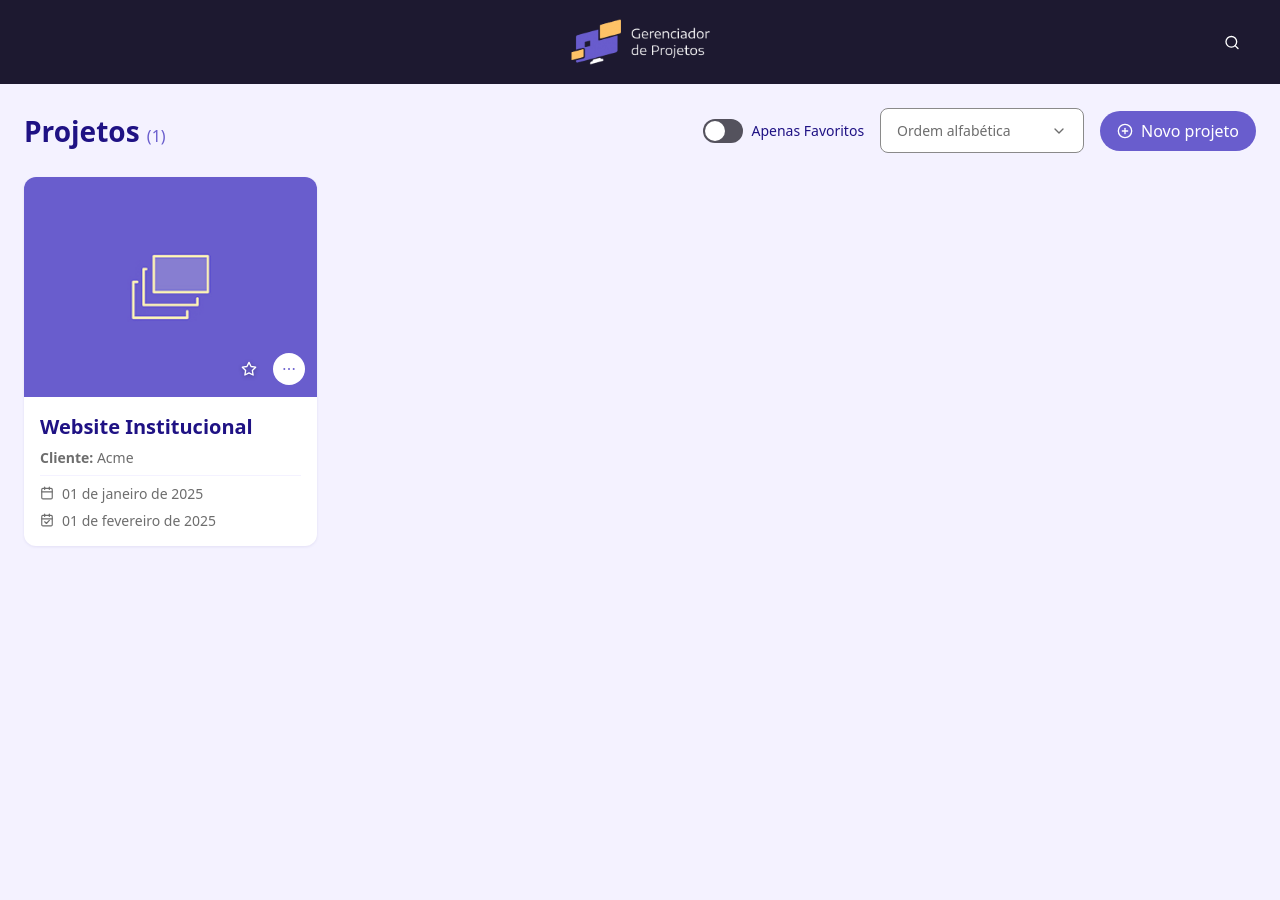
Test: ProjectListPage › remove um projeto após confirmar no modal
This screenshot has width=1280, height=900.
Click the button named "Mais opções" at (289, 369), box [273,353,305,385]
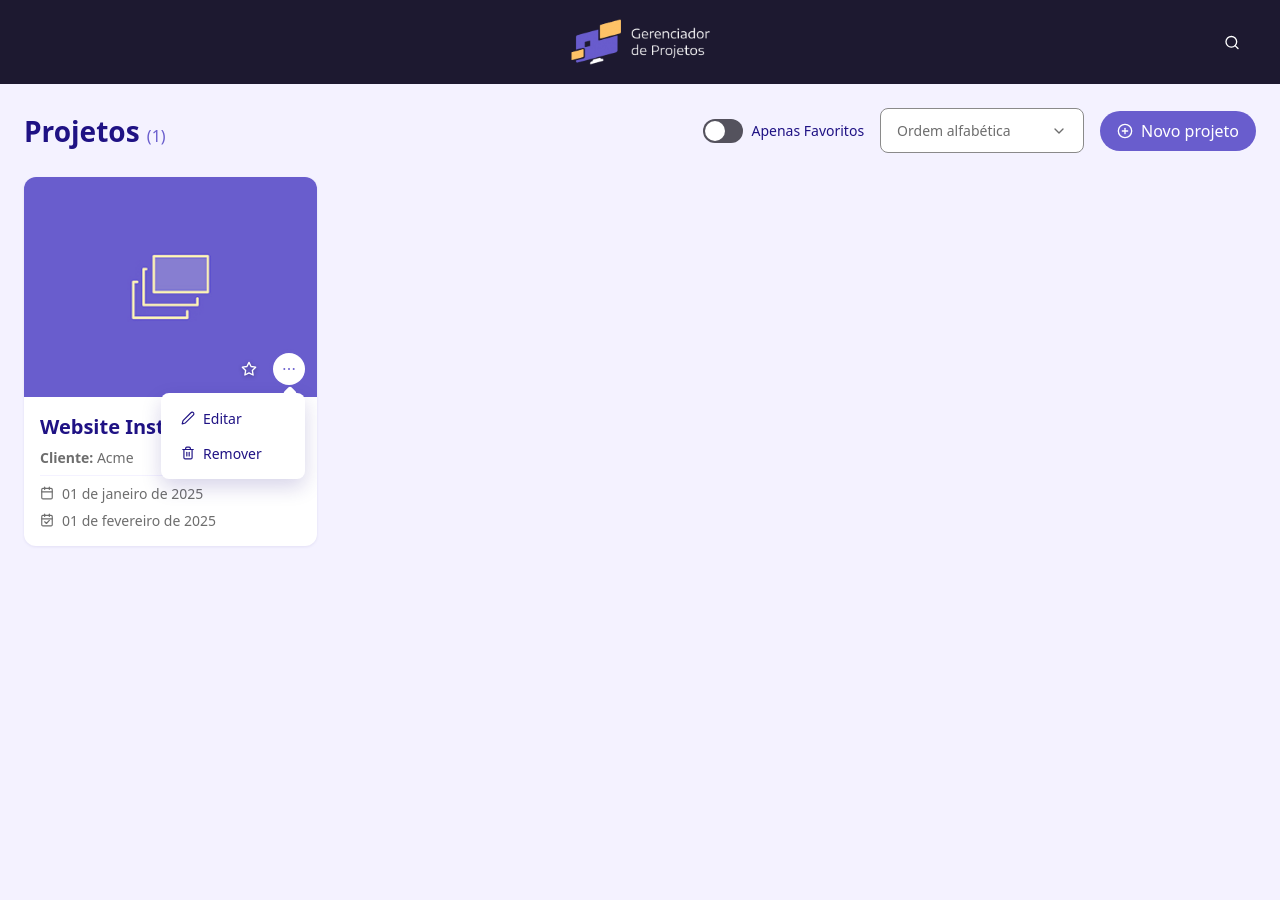
Click the button "Remover" at (233, 453), box [169,436,297,471]
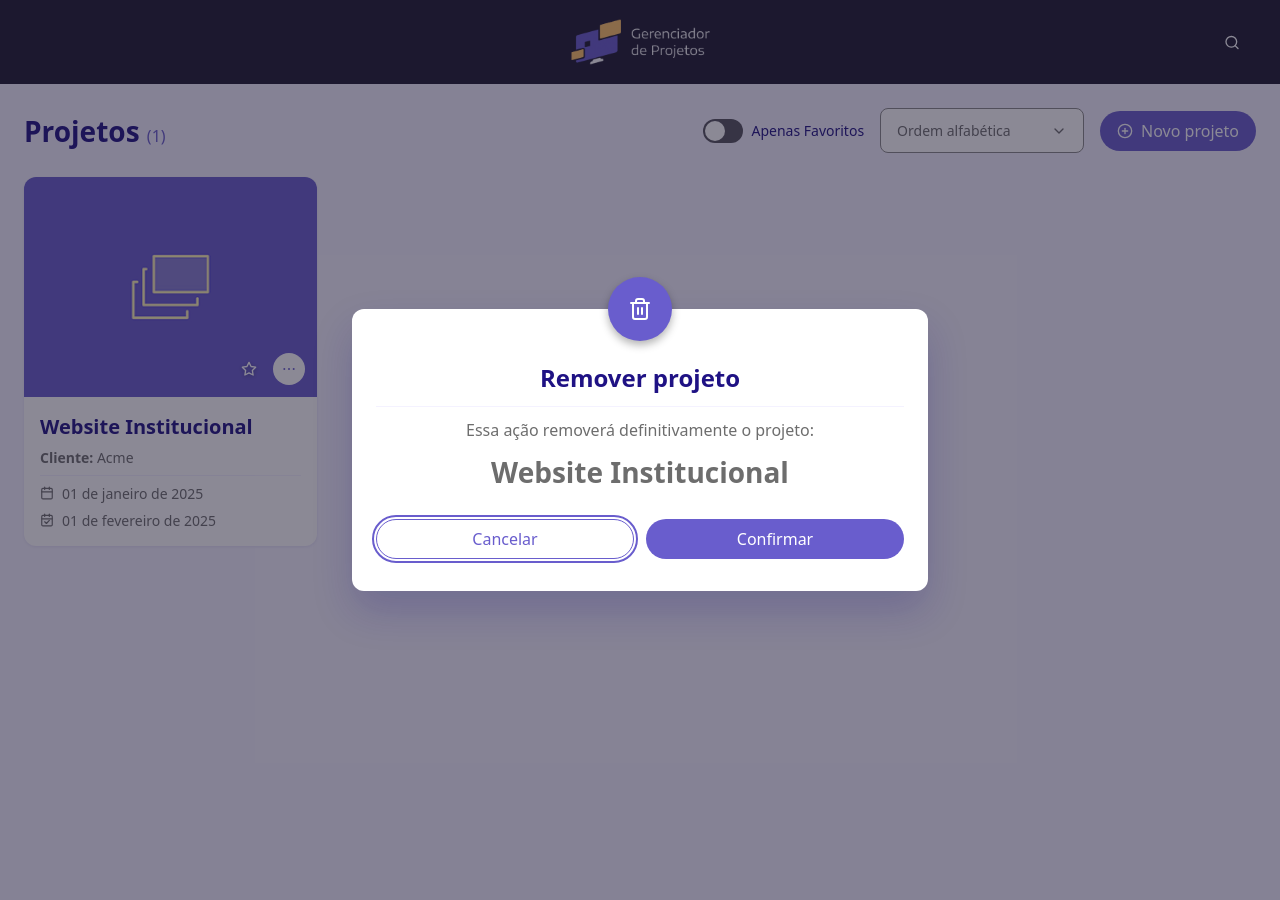
Click the button "Confirmar" at (775, 539), box [646,519,904,559]
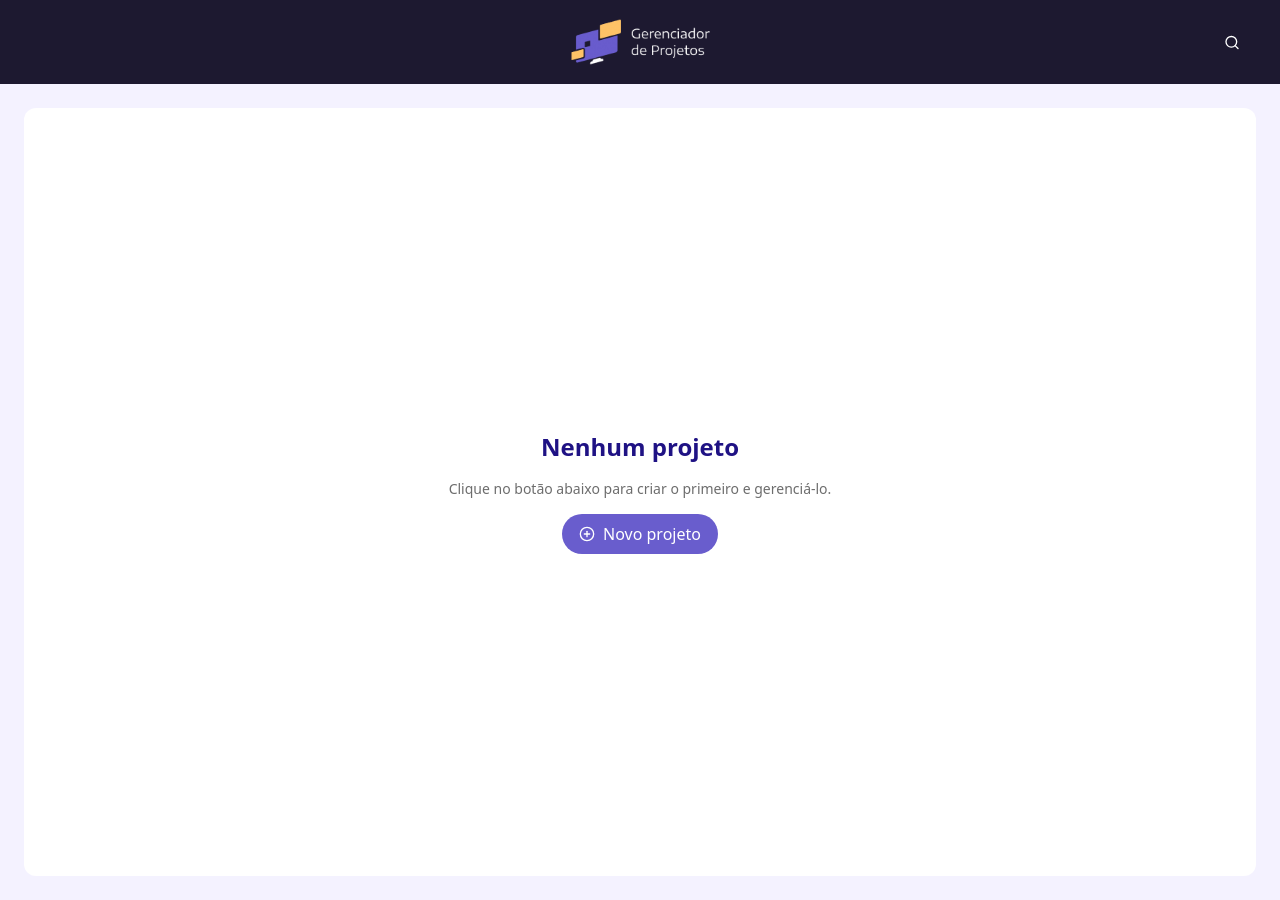
Expected: the text "Website Institucional" is gone
Expected: the heading "Nenhum projeto" is shown, [541,430,739,463]
